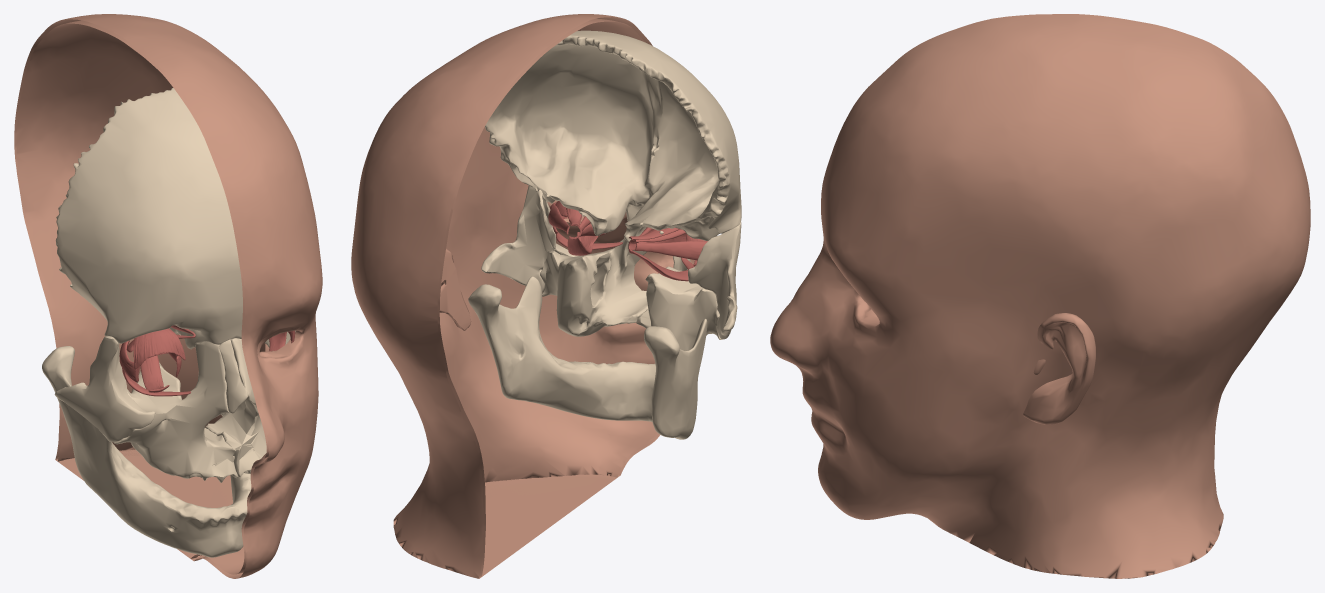
Rendered from facial-muscles.glb.
The picture shows the model from 3 angles, left to right: view 1: azimuth 30°, elevation 25°; view 2: azimuth 150°, elevation 25°; view 3: azimuth 270°, elevation 25°; orthographic projection. The views are drawn at different scales.
Parts seen in each view (by area): view 1: FJ2810 · skin, FJ3200 · bone organ, FJ3289 · bone organ, FJ3375 · bone organ, FJ3392 · bone organ, FJ3269 · bone organ, FJ1357 · muscle organ, FJ3378 · bone organ, FJ1346 · muscle organ, FJ3272 · bone organ, FJ1355 · muscle organ, FJ1345 · muscle organ; view 2: FJ2810 · skin, FJ3200 · bone organ, FJ3289 · bone organ, FJ3269 · bone organ, FJ3375 · bone organ, FJ3287 · bone organ, FJ3392 · bone organ, FJ2811 · subdivision of head, FJ1355 · muscle organ, FJ1295 · muscle organ; view 3: FJ2810 · skin, FJ2811 · subdivision of head.
Part boxes in pixels (x1,y1,x2,y2): FJ2810 · skin: (14, 14, 322, 578); FJ3200 · bone organ: (55, 88, 242, 349); FJ3289 · bone organ: (42, 346, 251, 557); FJ3375 · bone organ: (113, 341, 238, 482); FJ3392 · bone organ: (54, 336, 155, 442); FJ3269 · bone organ: (205, 338, 266, 476); FJ1357 · muscle organ: (133, 328, 185, 369); FJ3378 · bone organ: (219, 339, 247, 413); FJ1346 · muscle organ: (140, 355, 169, 392); FJ3272 · bone organ: (230, 338, 255, 405); FJ1355 · muscle organ: (119, 340, 140, 382); FJ1345 · muscle organ: (122, 368, 190, 396); FJ2810 · skin: (351, 14, 694, 578); FJ3200 · bone organ: (485, 30, 741, 242); FJ3289 · bone organ: (468, 276, 707, 439); FJ3269 · bone organ: (540, 204, 647, 336); FJ3375 · bone organ: (636, 256, 721, 350); FJ3287 · bone organ: (481, 185, 579, 291); FJ3392 · bone organ: (688, 222, 741, 339); FJ2811 · subdivision of head: (439, 249, 471, 330); FJ1355 · muscle organ: (635, 241, 706, 260); FJ1295 · muscle organ: (567, 232, 598, 255); FJ2810 · skin: (770, 14, 1310, 578); FJ2811 · subdivision of head: (1023, 313, 1095, 424).
Bounding box in the file's own units: 2.11 × 3.35 × 3.28.
